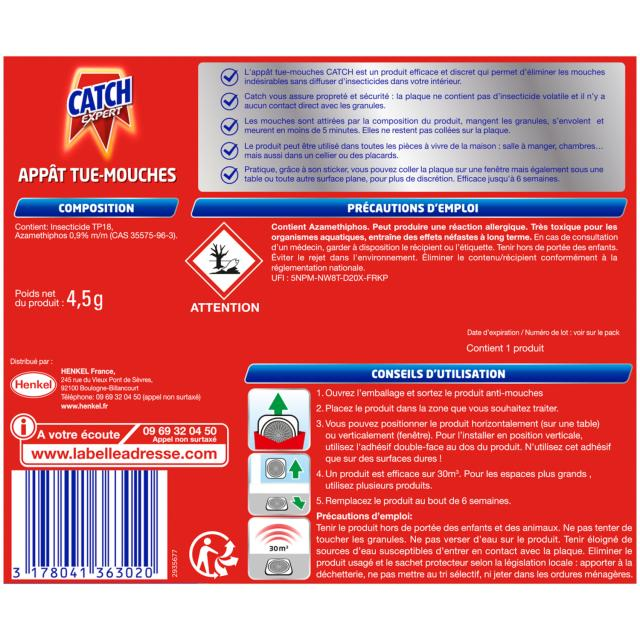GHS_Symbol_ENVIRONMENT: (185, 222, 264, 301)
